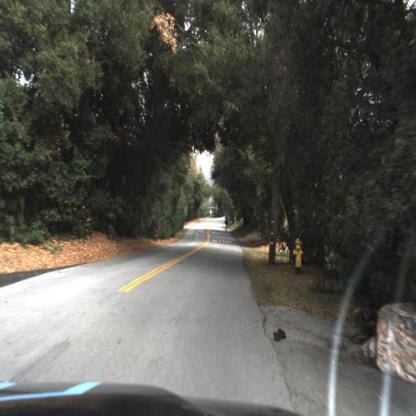pedestrian: (224, 211, 231, 235)
